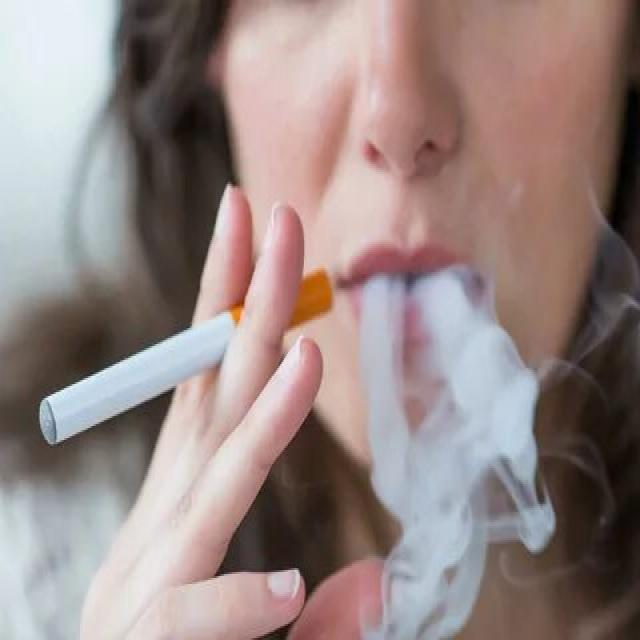cigarette: (36, 264, 335, 450)
